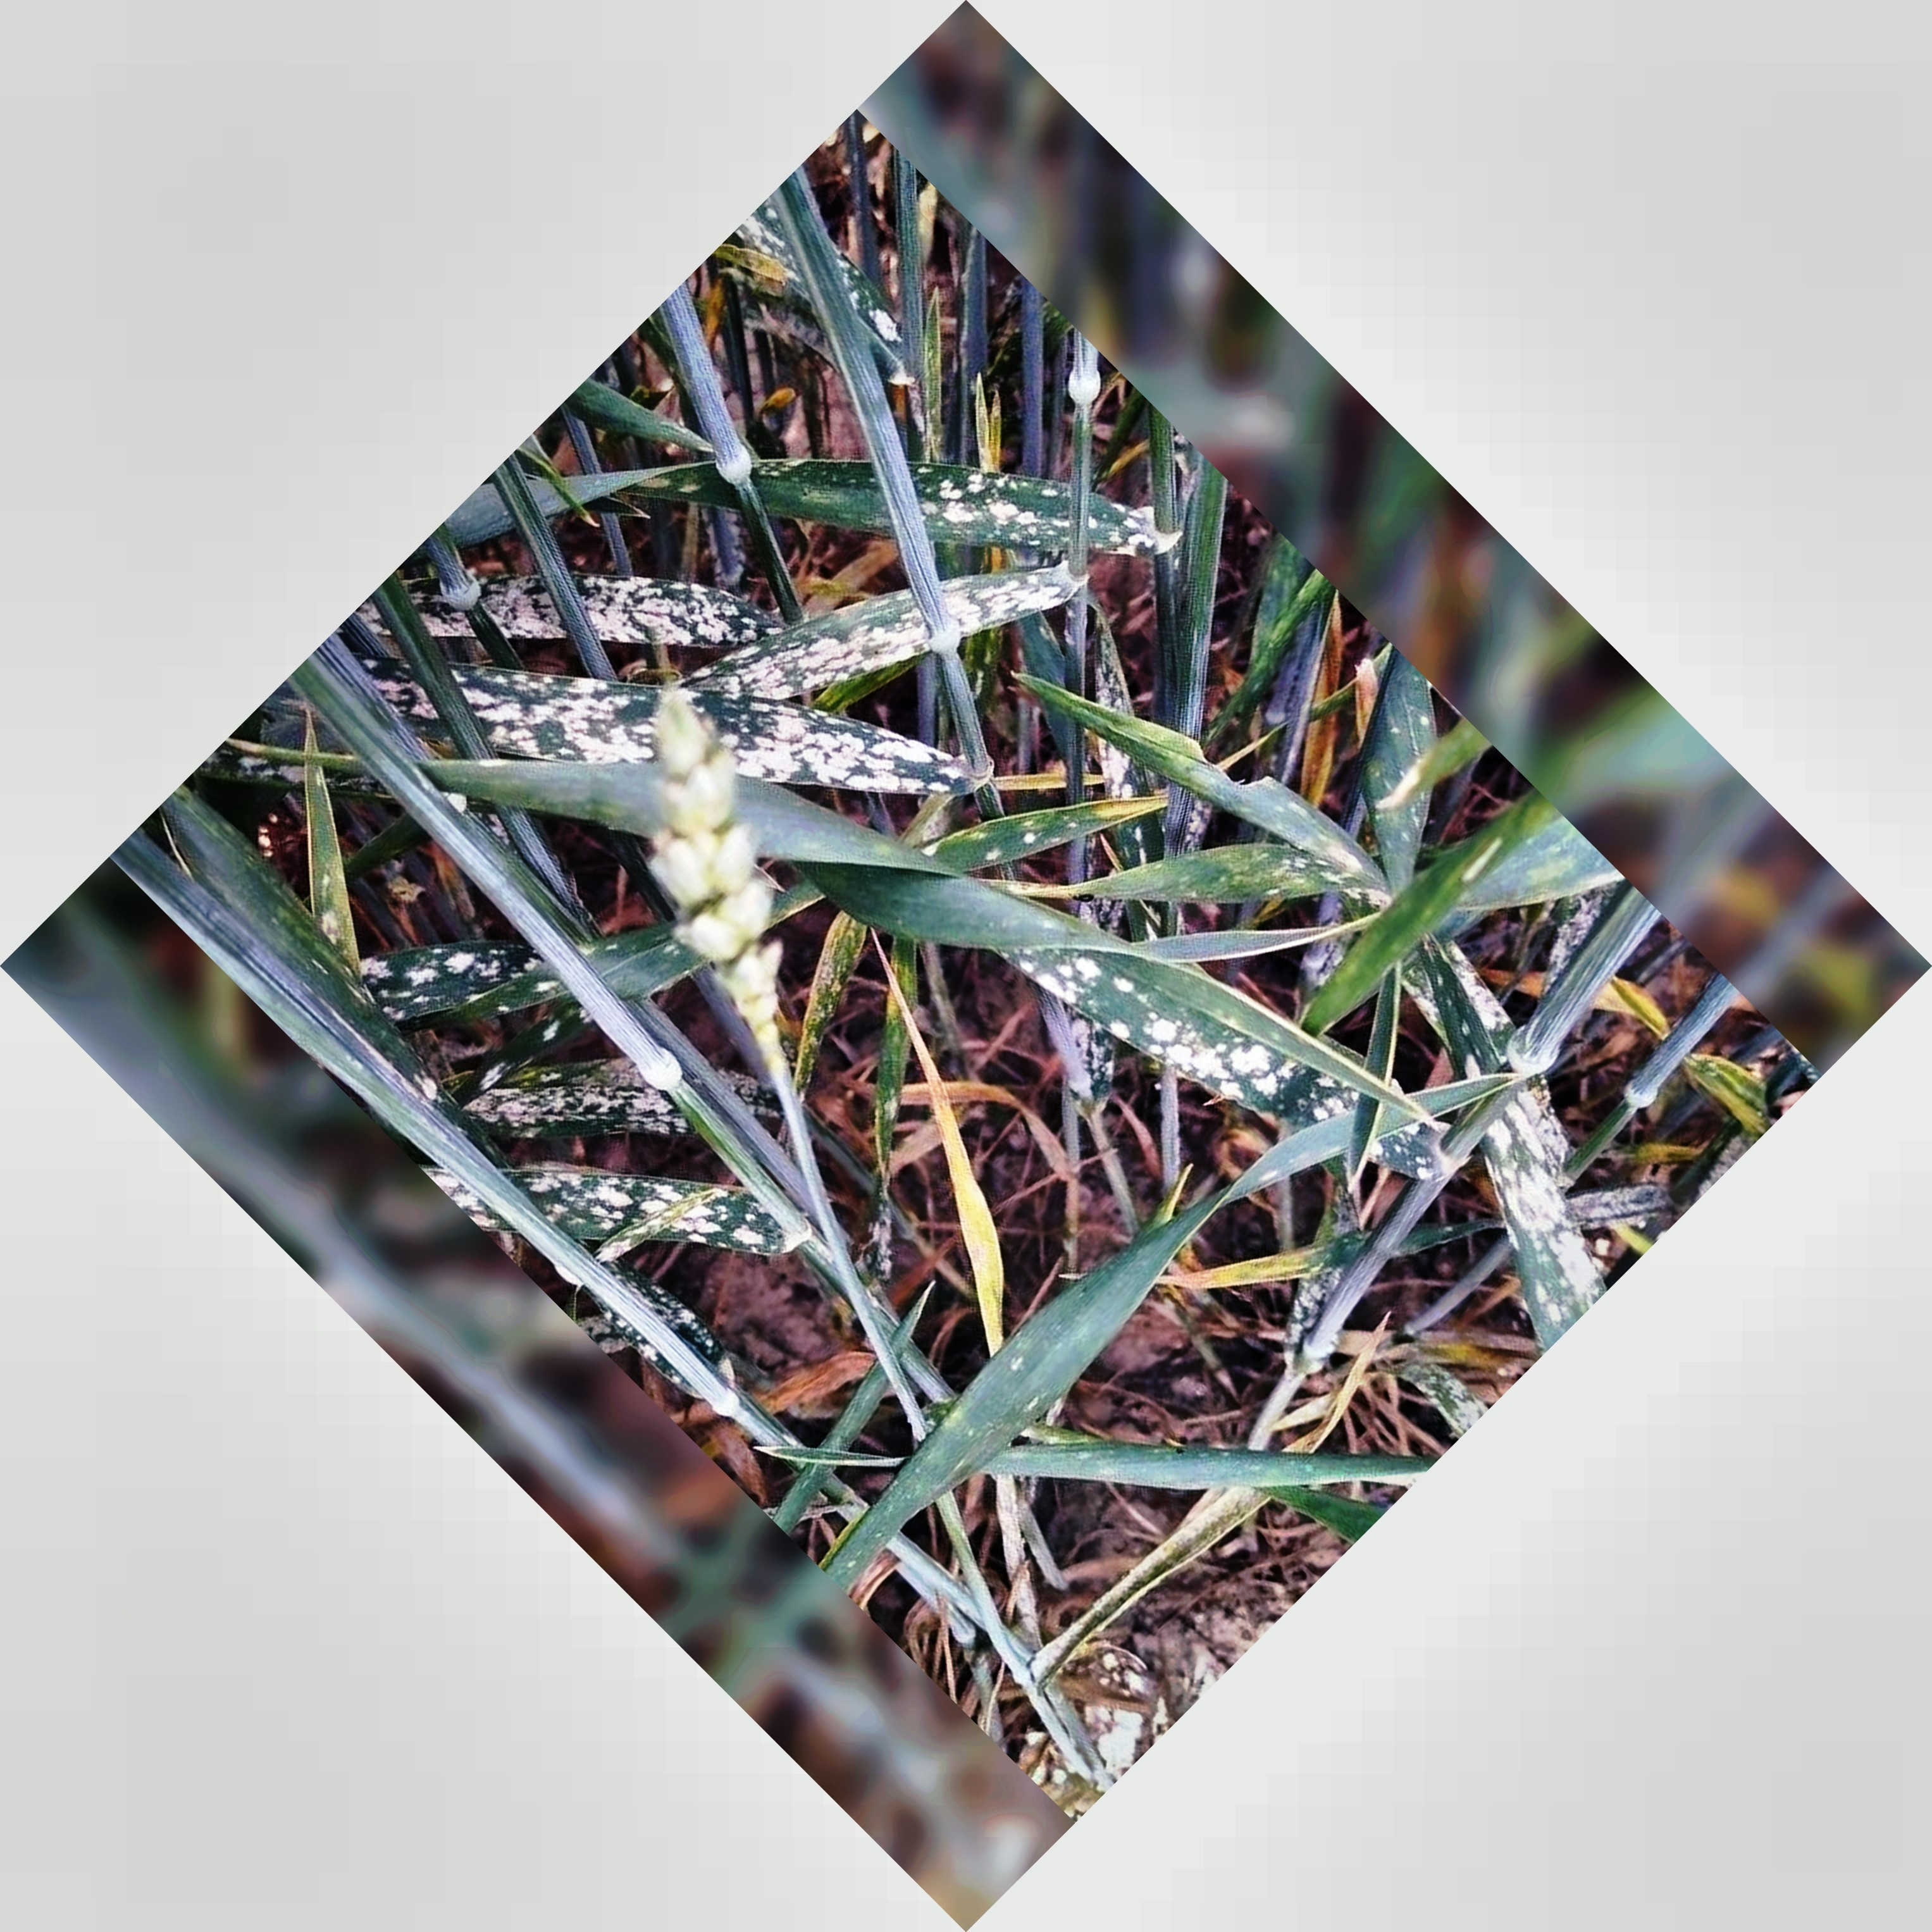Powdery Mildew: (478, 550, 959, 803)
